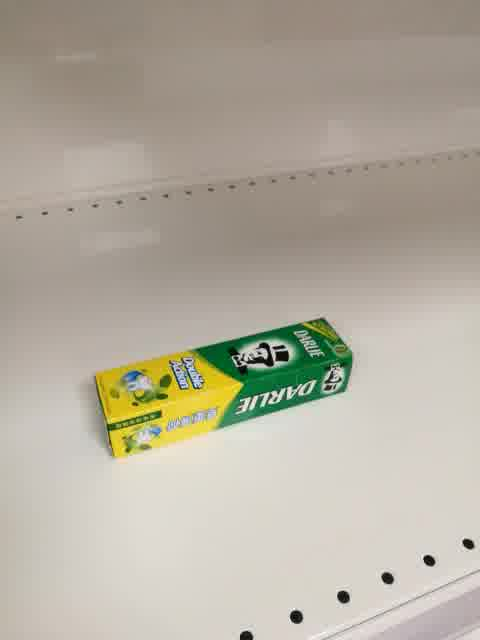toothpaste: (93, 318, 352, 461)
